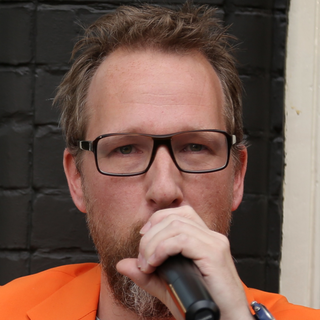eye: (97, 134, 147, 169), (172, 138, 225, 164)
